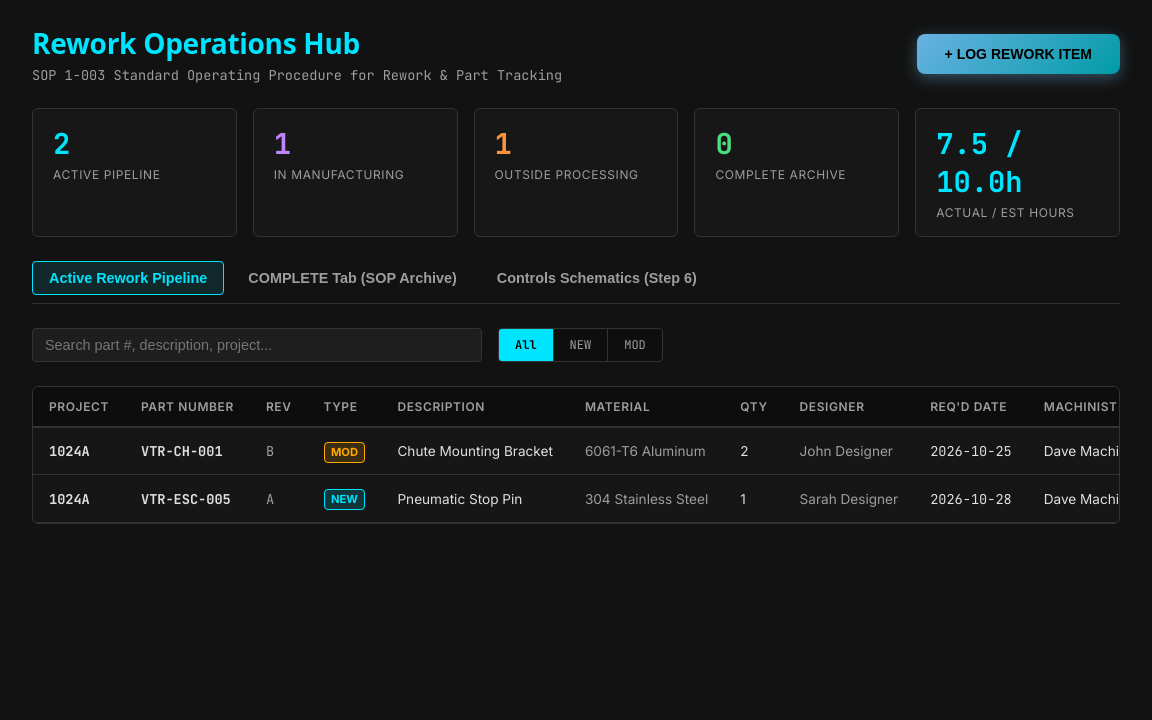
it: ReworkHubPage › opens rework modal when clicking Log Rework Item button
Click the button "+ Log Rework Item" at [1018, 54], box top-left (917, 34), bottom-right (1120, 74)
(page scrolled)
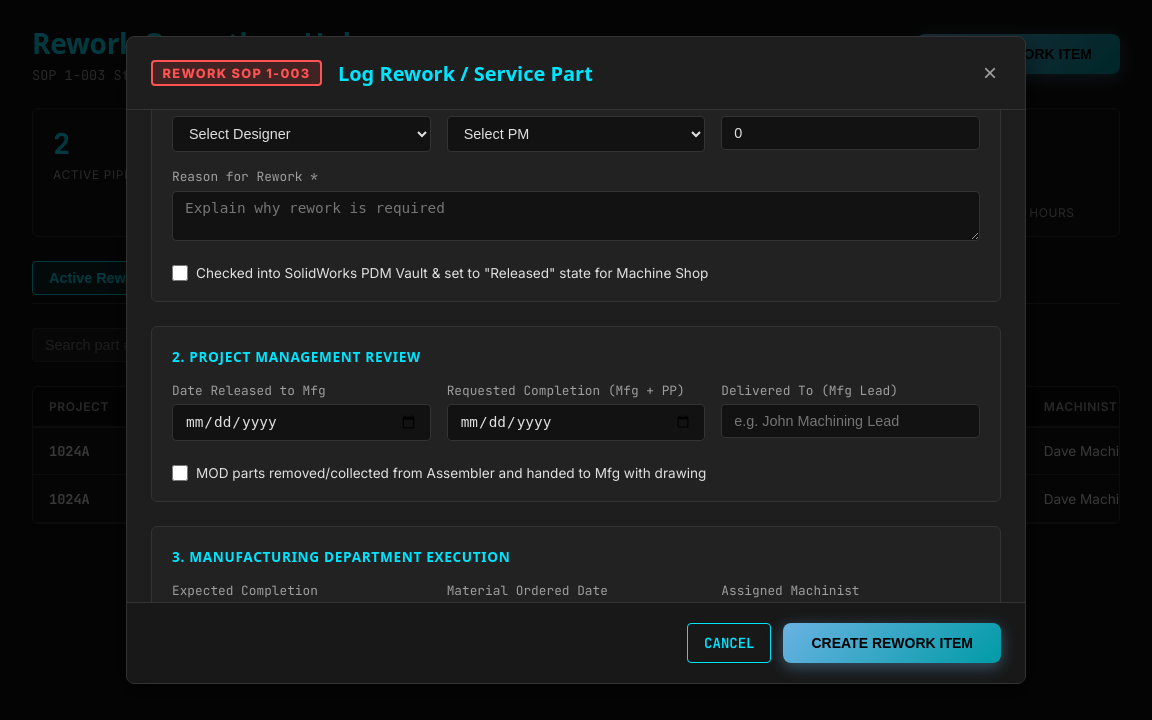
Result: the heading "Log Rework / Service Part" is shown at top-left (338, 60), bottom-right (593, 86)
Result: the heading "2. Project Management Review" is shown at top-left (172, 347), bottom-right (421, 366)
